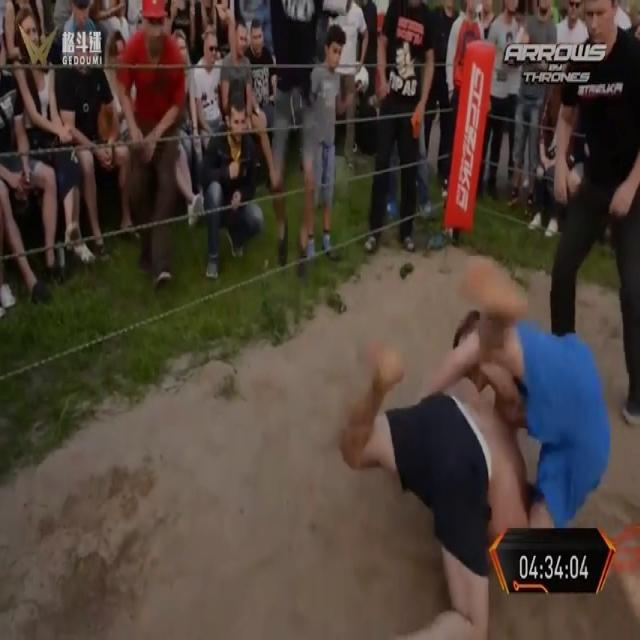fight: (337, 257, 612, 640)
non-fight: (551, 1, 640, 420), (4, 18, 85, 294), (116, 0, 186, 295), (54, 8, 119, 268), (264, 2, 324, 272), (368, 0, 431, 256), (203, 92, 269, 282), (302, 23, 352, 271), (539, 5, 588, 232), (509, 0, 555, 212), (480, 0, 523, 205), (424, 0, 460, 200), (329, 1, 369, 176), (219, 11, 258, 130), (191, 29, 224, 148), (244, 20, 276, 132)
